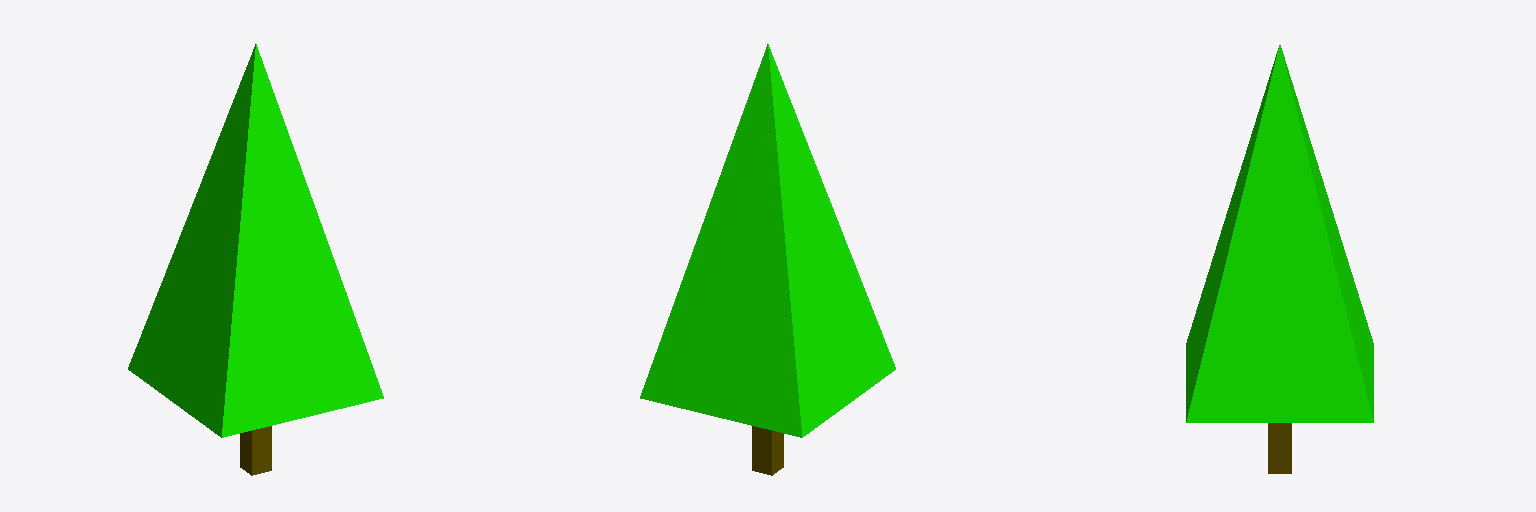
The picture shows the model from 3 angles: view 1: azimuth 30°, elevation 25°; view 2: azimuth 150°, elevation 25°; view 3: azimuth 270°, elevation 25°; orthographic projection.
Parts seen in each view (by area): view 1: Mesh; view 2: Mesh; view 3: Mesh.
Boxes of the visible parts, <box> form: Mesh: <box>128,44,383,475</box>; Mesh: <box>640,44,895,475</box>; Mesh: <box>1186,45,1373,473</box>.
Size of the model in its own units: 8 by 20 by 8.
1 materials, 1 textured.